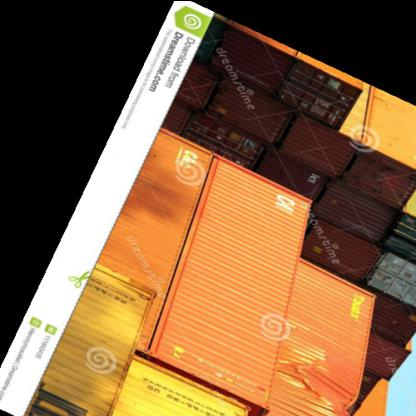Damage: (298, 349, 362, 414)
